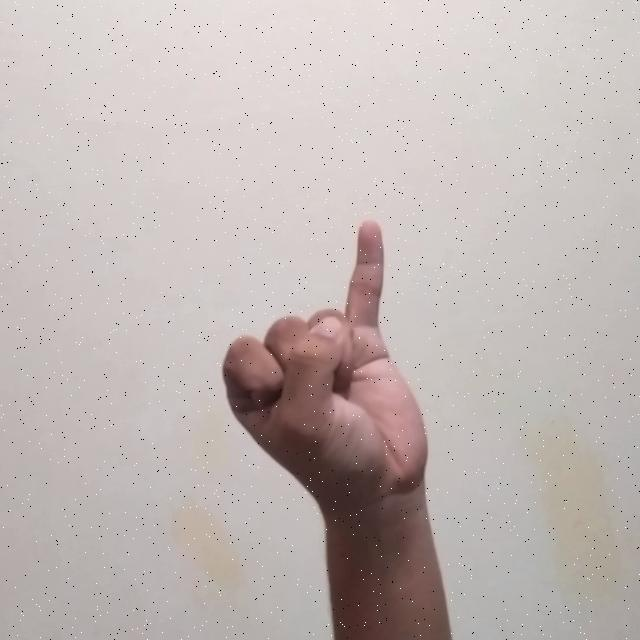I: (215, 214, 438, 510)
